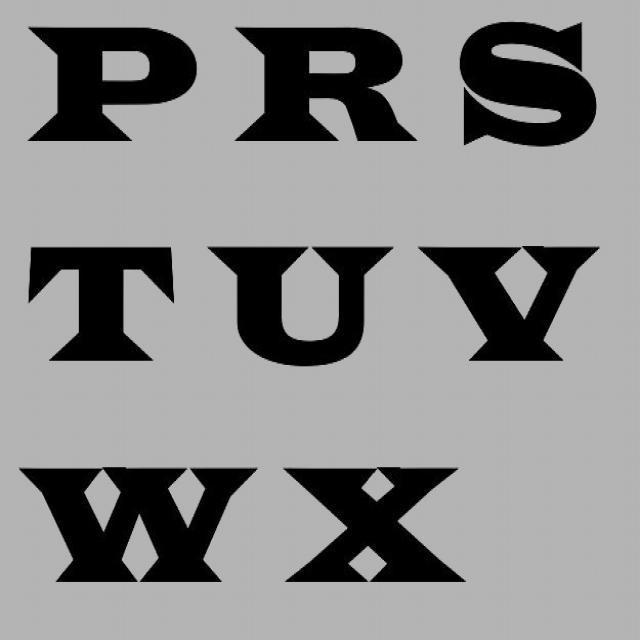P: (21, 18, 199, 148)
R: (227, 21, 420, 152)
S: (453, 16, 600, 158)
T: (24, 237, 186, 371)
U: (199, 239, 400, 374)
V: (408, 238, 618, 376)
W: (13, 453, 256, 592)
X: (281, 457, 476, 594)
